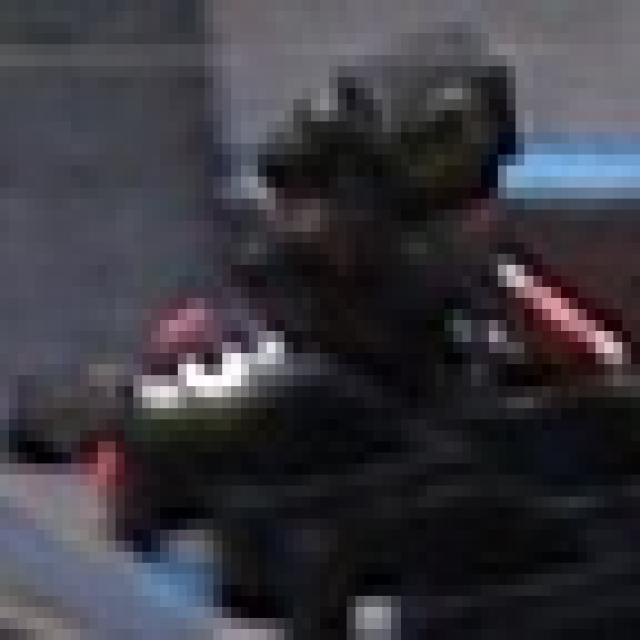R3: (120, 265, 280, 419)
